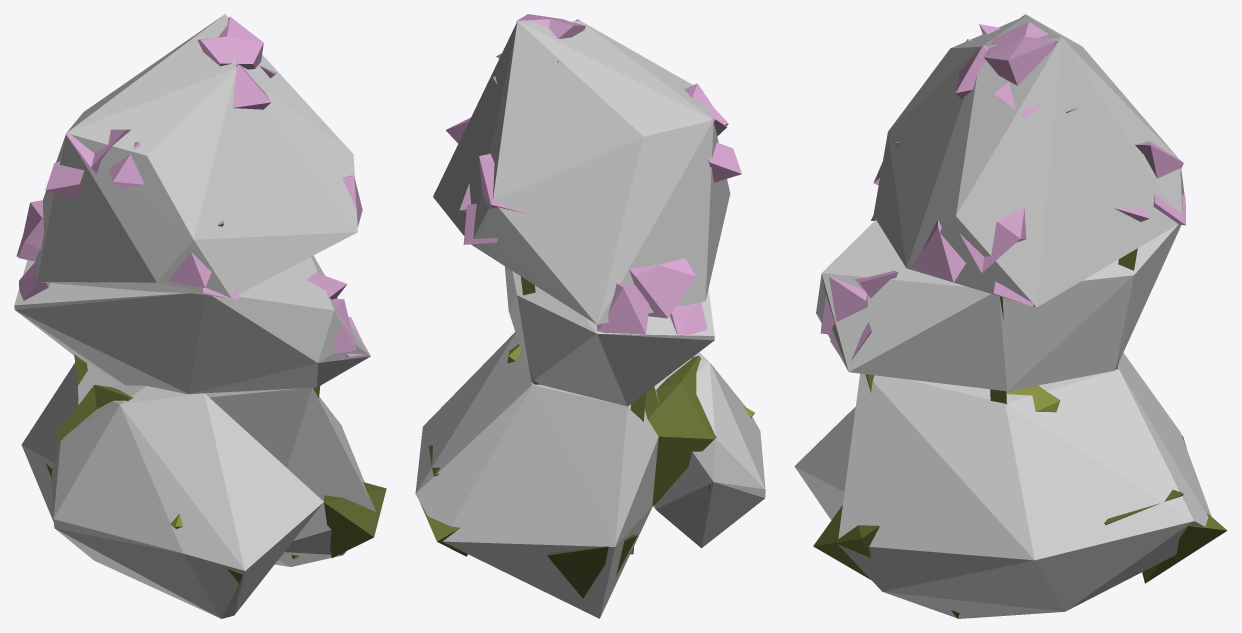
The model's file is SM_Env_Flowers_10.fbx.
The picture shows the model from 3 angles, left to right: view 1: azimuth 30°, elevation 25°; view 2: azimuth 150°, elevation 25°; view 3: azimuth 270°, elevation 25°; orthographic projection. The views are drawn at different scales.
Visible parts, largest first — view 1: SM_Env_Flowers_10_ConvexHulls, SM_Env_Flowers_10; view 2: SM_Env_Flowers_10_ConvexHulls, SM_Env_Flowers_10; view 3: SM_Env_Flowers_10_ConvexHulls, SM_Env_Flowers_10.
Part boxes in pixels (<box>): SM_Env_Flowers_10_ConvexHulls: <box>14,14,376,618</box>; SM_Env_Flowers_10: <box>16,16,386,598</box>; SM_Env_Flowers_10_ConvexHulls: <box>415,21,765,618</box>; SM_Env_Flowers_10: <box>419,14,754,598</box>; SM_Env_Flowers_10_ConvexHulls: <box>794,15,1211,618</box>; SM_Env_Flowers_10: <box>813,14,1227,618</box>.
Bounding box in the file's own units: 74.1 × 82 × 119.
Materials: 2 (1 with a texture image).
